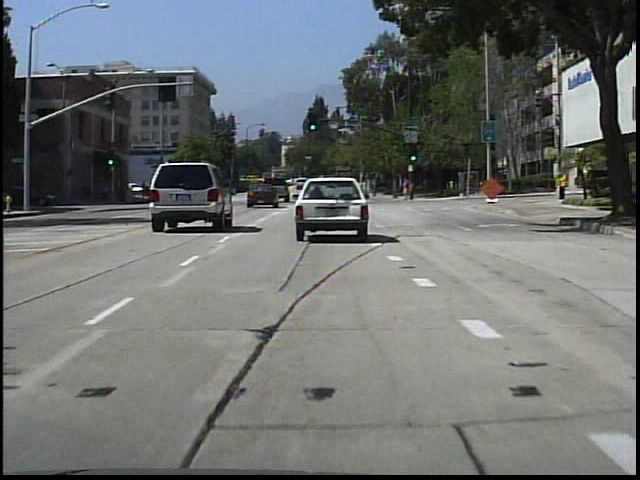person: (401, 173, 416, 205)
